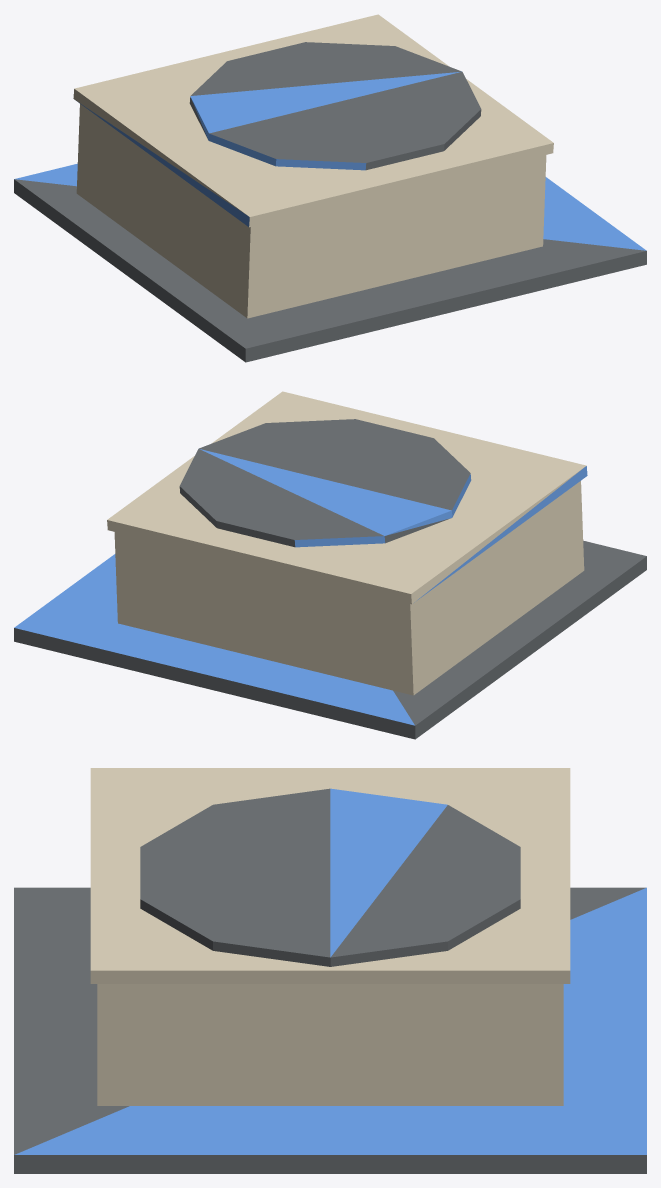
Rendered from meridian_radar_heavily_damaged.glb.
The picture shows the model from 3 angles, top to bottom: view 1: azimuth 30°, elevation 25°; view 2: azimuth 150°, elevation 25°; view 3: azimuth 270°, elevation 25°; orthographic projection. The views are drawn at different scales.
Parts seen in each view (by area): view 1: hull, dish; view 2: hull, dish; view 3: hull, dish.
Part boxes in pixels (x1,y1,x2,y2): hull: (14,14,646,362); dish: (189,42,481,170); hull: (14,391,646,739); dish: (179,419,471,547); hull: (14,768,646,1173); dish: (140,788,520,966).
Bounding box in the file's own units: 7.6 × 2.26 × 7.6.
